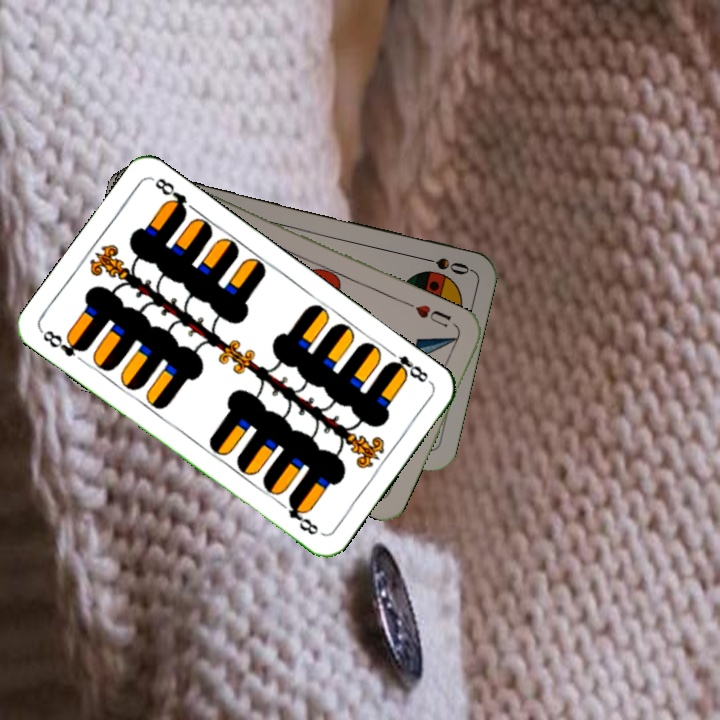E8: (383, 345, 431, 385), (38, 326, 90, 360)
HU: (405, 299, 454, 330)
SO: (414, 252, 472, 278)
